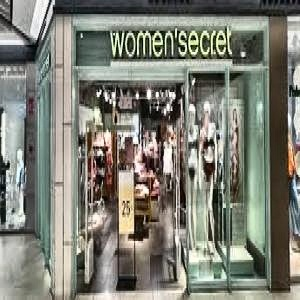women_secret: (185, 12, 291, 35)
